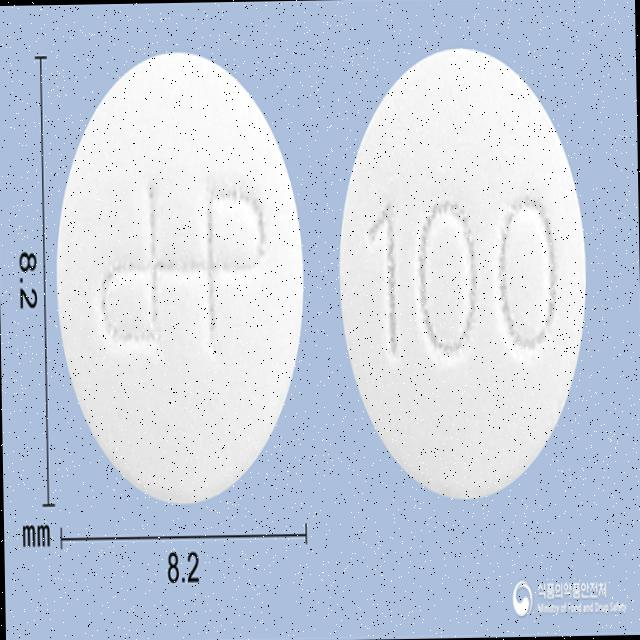Carbastar: (331, 39, 594, 505), (49, 47, 310, 514)
